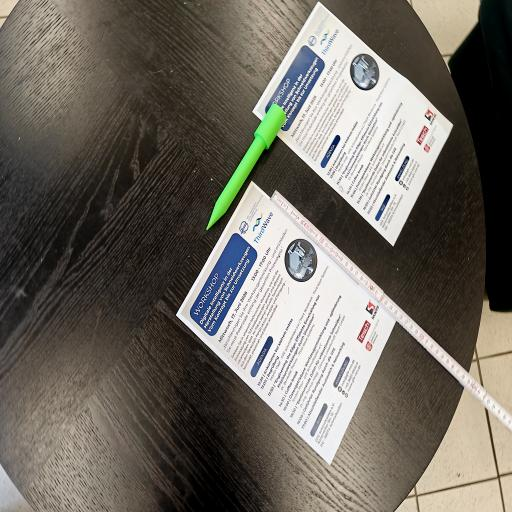Probe-Detection: (207, 105, 286, 230)
